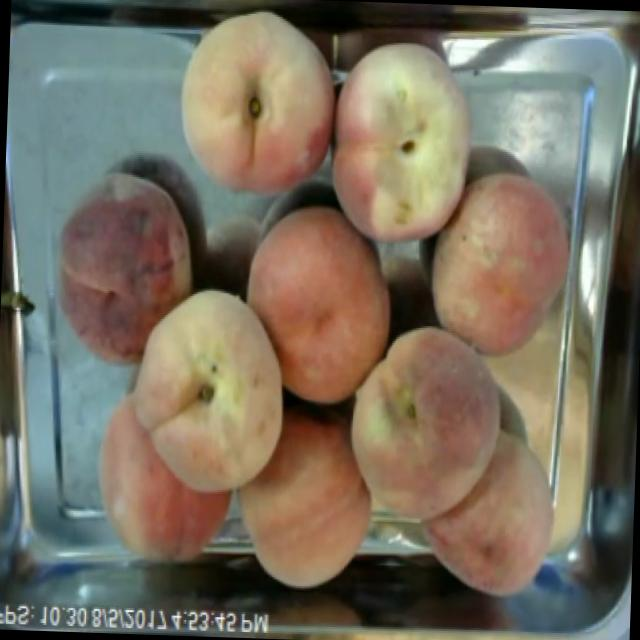Fruit: (114, 274, 302, 506), (330, 313, 518, 533), (228, 190, 408, 418), (31, 158, 212, 382), (410, 154, 582, 376), (163, 0, 340, 213), (328, 31, 490, 260), (413, 413, 582, 610), (228, 414, 388, 600)
